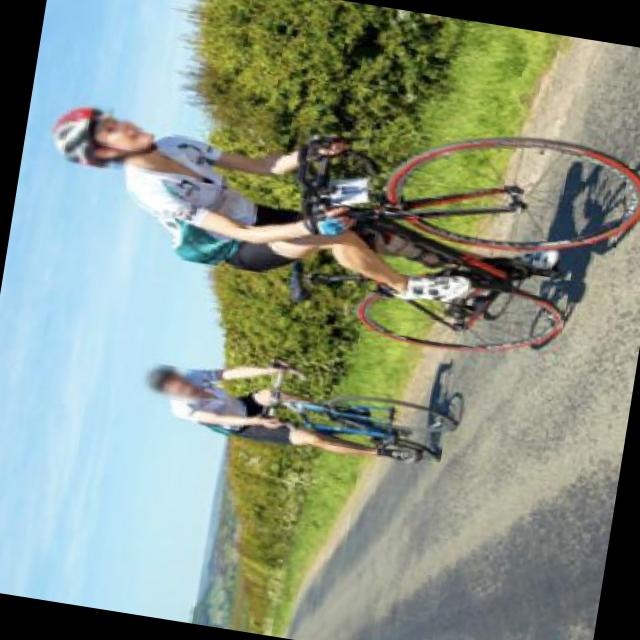With Helmet: (46, 98, 158, 176), (139, 360, 205, 402)
